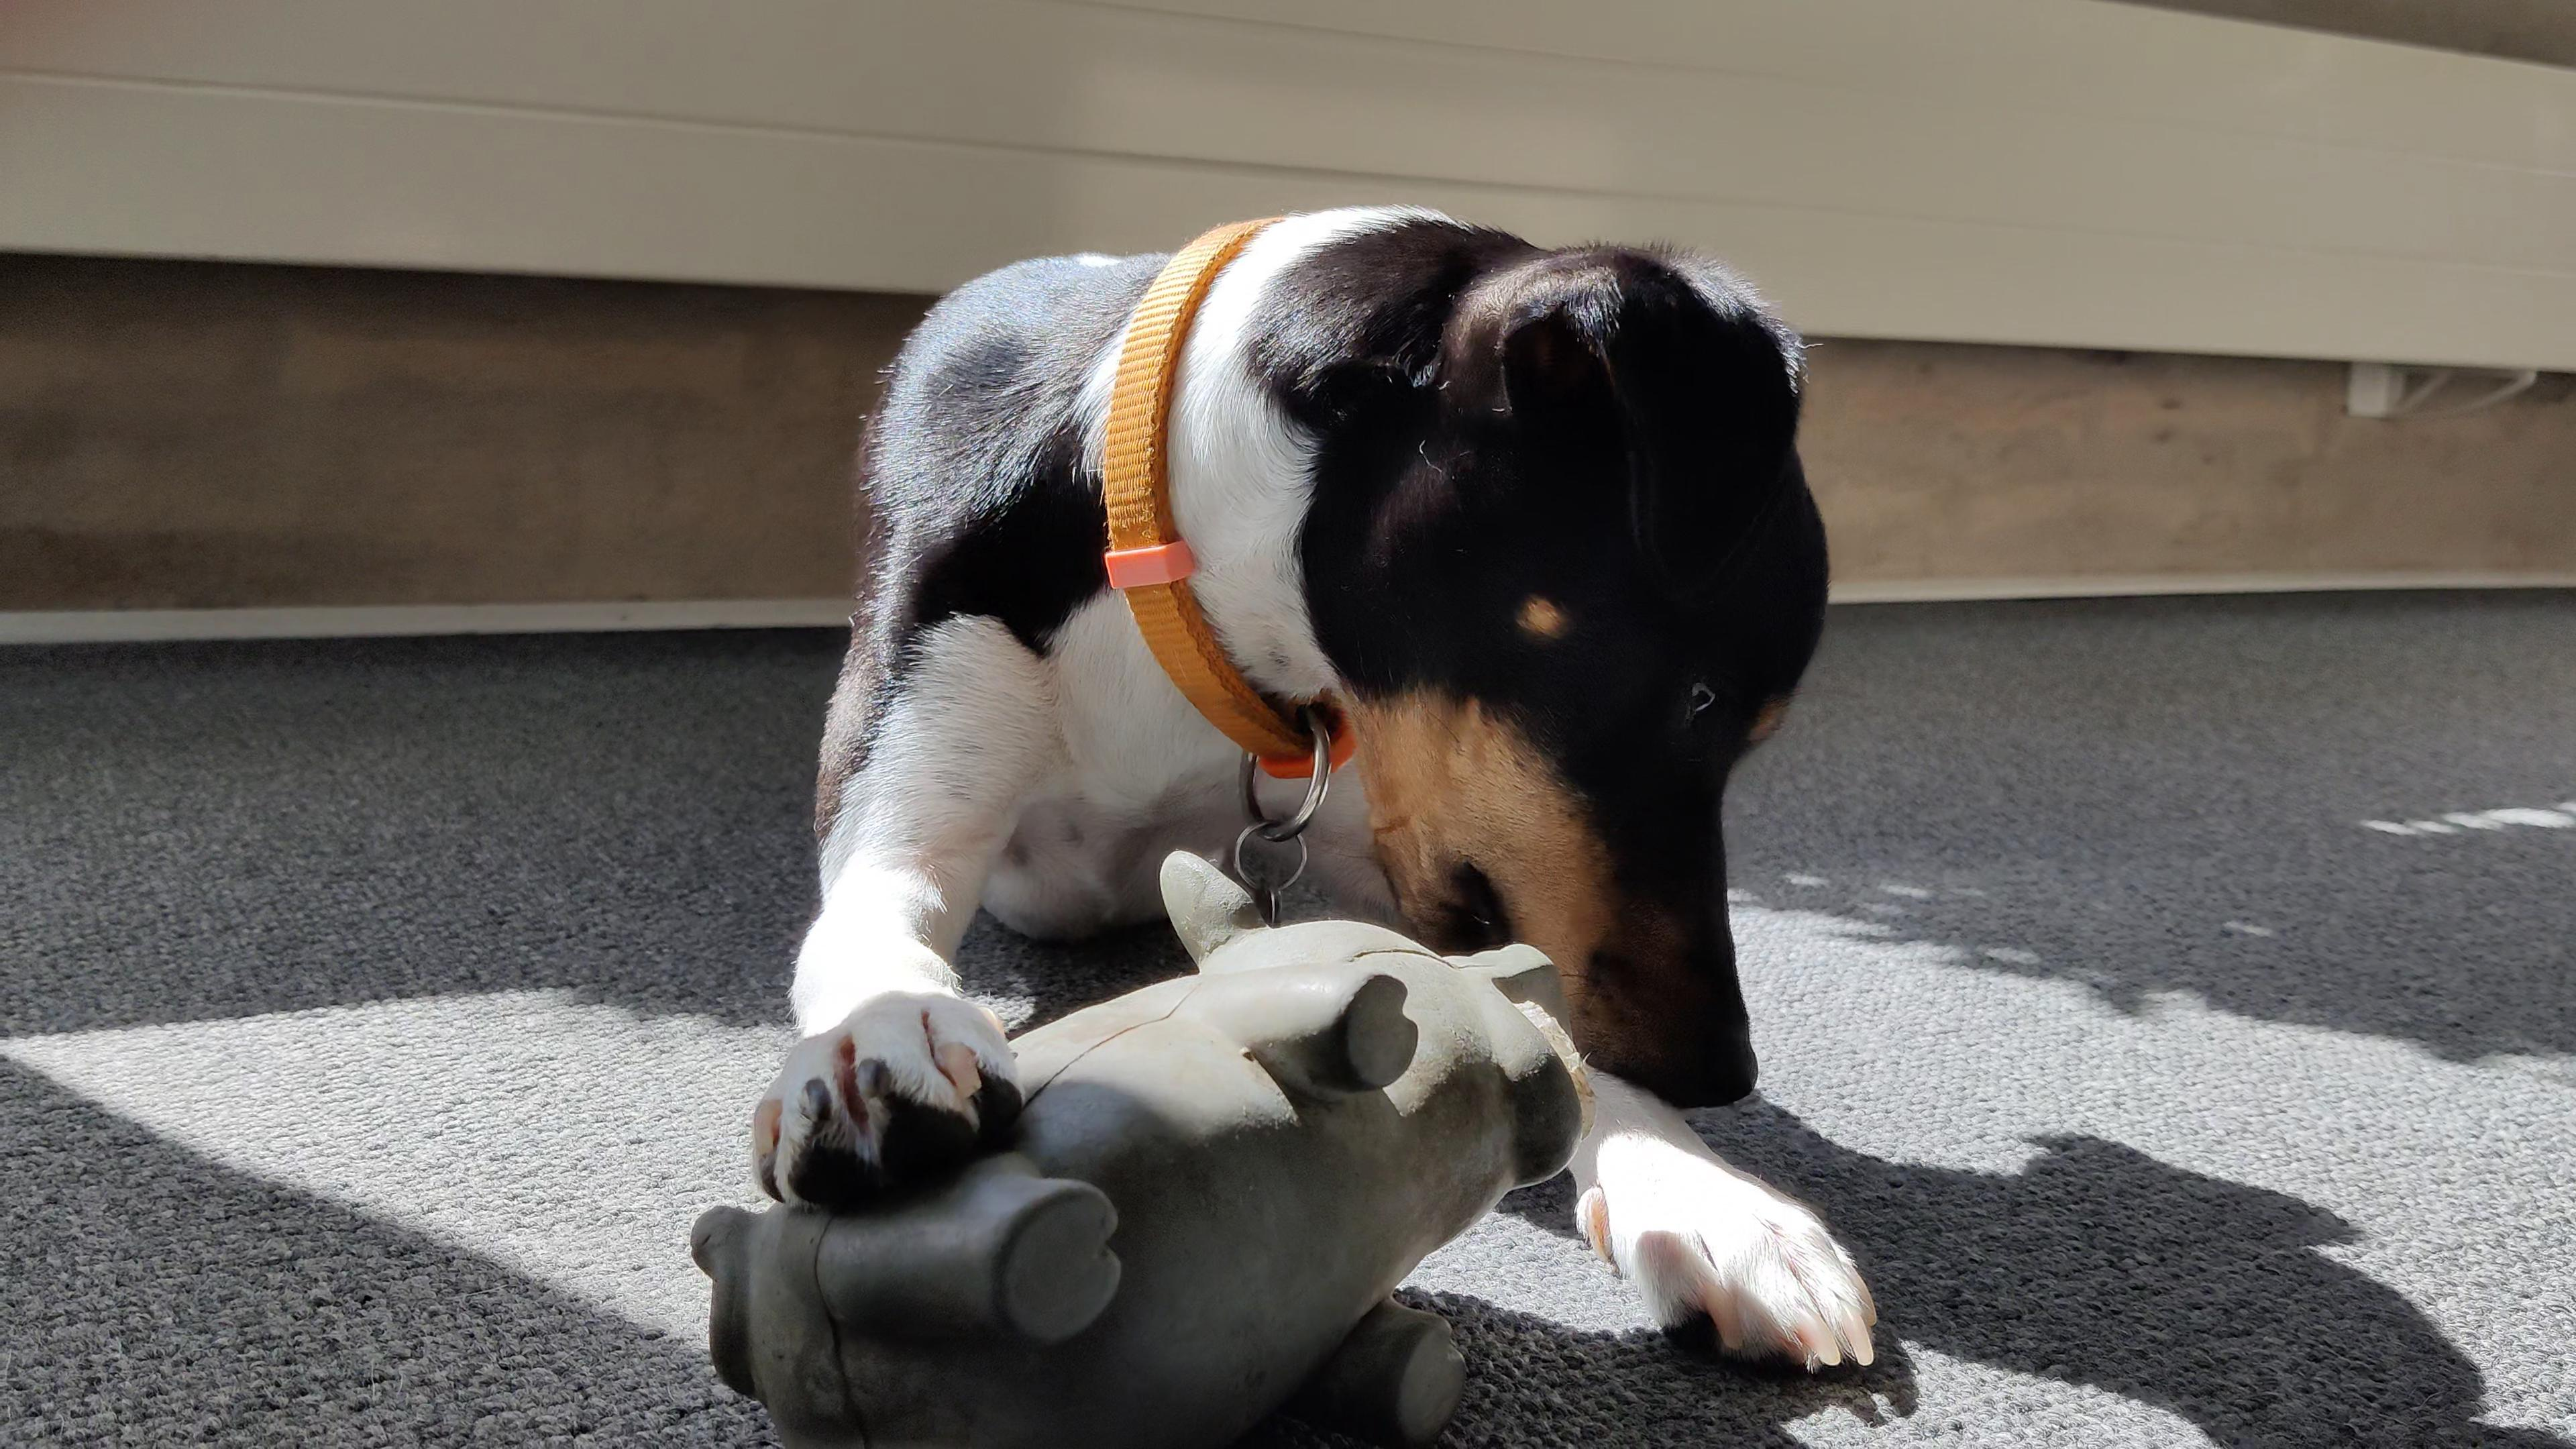Dog: (725, 195, 1900, 1378)
